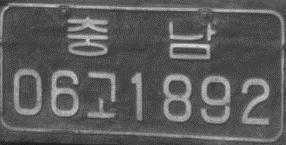0: (12, 67, 42, 116)
1: (123, 72, 154, 122)
2: (240, 77, 270, 126)
6: (49, 69, 79, 117)
8: (162, 73, 193, 123)
9: (200, 75, 231, 124)
고: (86, 70, 117, 120)
충남_D: (66, 16, 216, 60)
